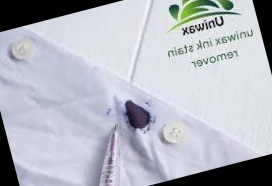ink: (122, 97, 154, 135)
